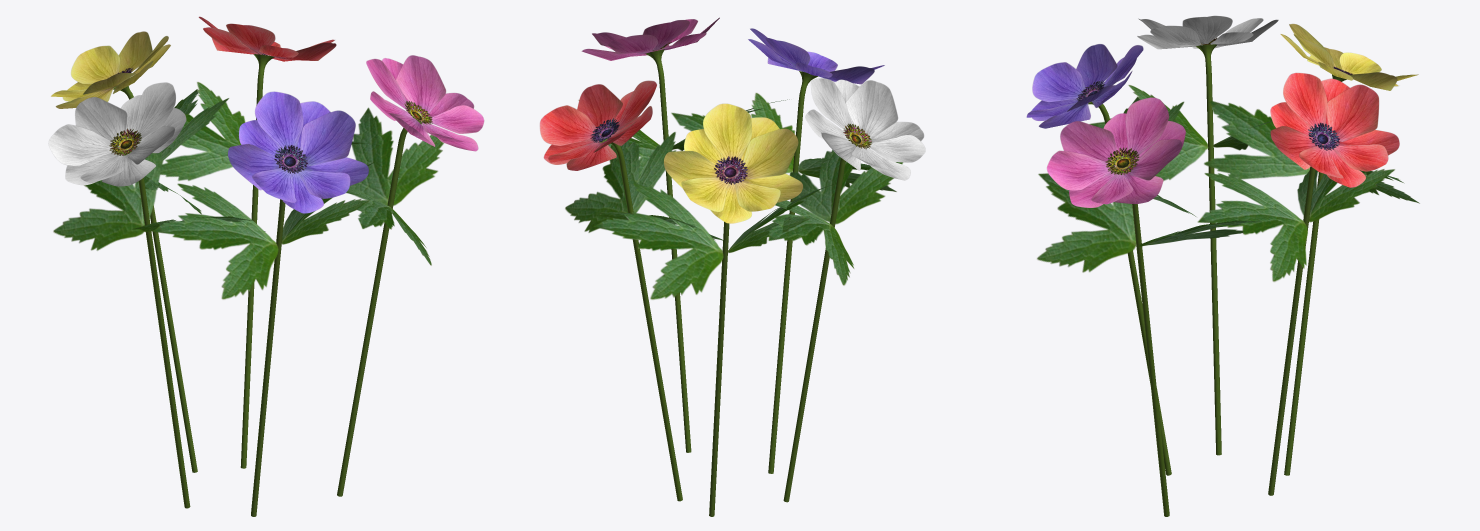
Rendered from flores.glb.
3 renders of one model, left to right at view 1: azimuth 30°, elevation 25°; view 2: azimuth 150°, elevation 25°; view 3: azimuth 270°, elevation 25°, orthographic. The views are drawn at different scales.
Visible parts, largest first — view 1: Cylinder, Cylinder.004, Cylinder.001, Cylinder.002, Cylinder.003; view 2: Cylinder.003, Cylinder.004, Cylinder.002, Cylinder, Cylinder.001; view 3: Cylinder.002, Cylinder.001, Cylinder.003, Cylinder.004, Cylinder.
Part boxes in pixels (bbox=[...]): Cylinder: bbox=[152, 91, 374, 516]; Cylinder.004: bbox=[48, 82, 265, 508]; Cylinder.001: bbox=[337, 55, 484, 496]; Cylinder.002: bbox=[160, 16, 379, 468]; Cylinder.003: bbox=[51, 31, 228, 472]; Cylinder.003: bbox=[593, 103, 835, 516]; Cylinder.004: bbox=[768, 78, 925, 502]; Cylinder.002: bbox=[540, 80, 722, 501]; Cylinder: bbox=[671, 28, 896, 473]; Cylinder.001: bbox=[578, 17, 789, 452]; Cylinder.002: bbox=[1198, 73, 1399, 495]; Cylinder.001: bbox=[1037, 97, 1261, 516]; Cylinder.003: bbox=[1204, 24, 1419, 475]; Cylinder.004: bbox=[1090, 15, 1278, 455]; Cylinder: bbox=[1026, 44, 1195, 475].
Size of the model in its own units: 15.63 by 16.52 by 16.73.
2 materials, 2 textured.
